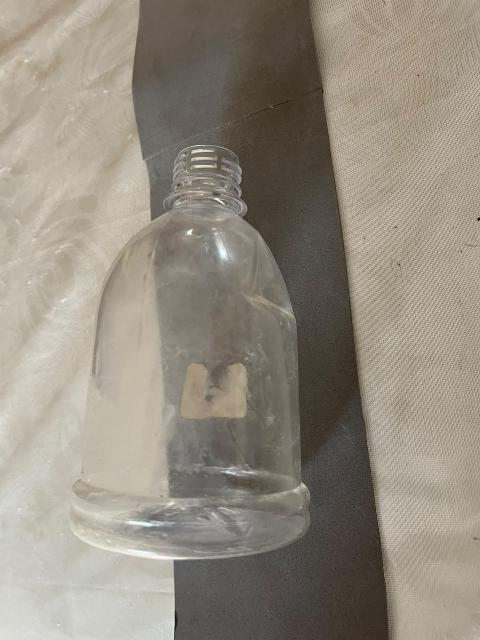PET: (37, 109, 351, 583)
